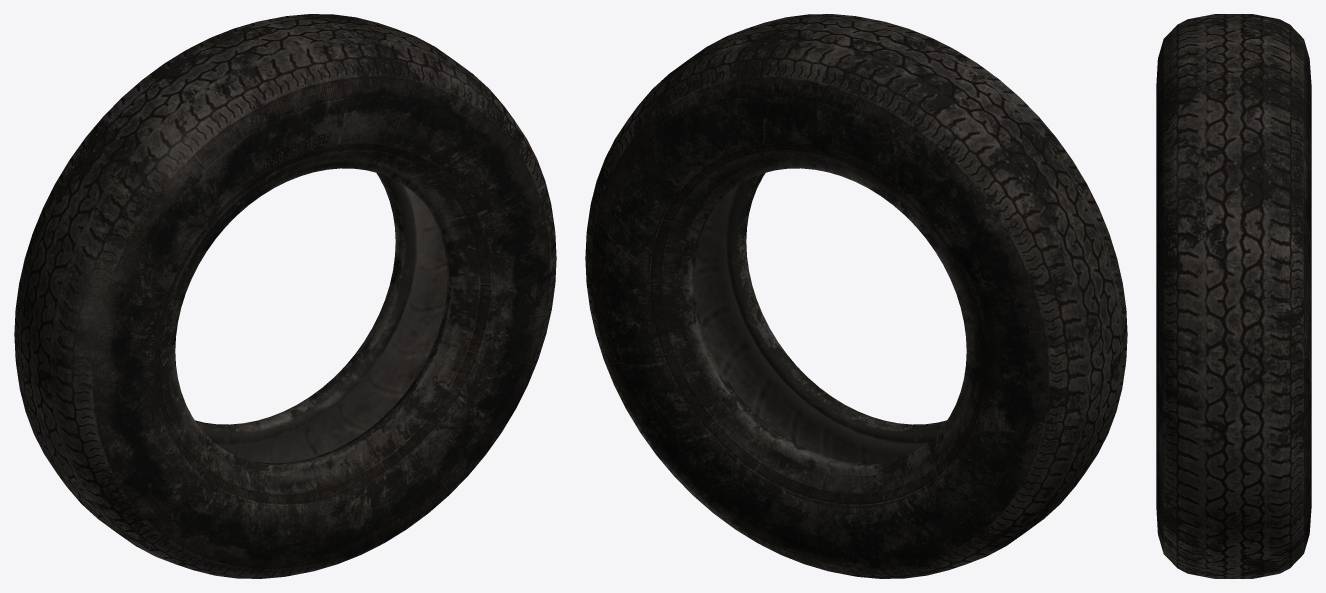
The model's file is old_tyre_1k.gltf.
The picture shows the model from 3 angles, left to right: view 1: azimuth 30°, elevation 25°; view 2: azimuth 150°, elevation 25°; view 3: azimuth 270°, elevation 25°; orthographic projection. The views are drawn at different scales.
Parts seen in each view (by area): view 1: old_tyre; view 2: old_tyre; view 3: old_tyre.
Boxes of the visible parts, x1,y1,x2,y2 form: old_tyre: (14,14,556,578); old_tyre: (585,14,1127,578); old_tyre: (1156,14,1311,578).
Size of the model in its own units: 0.6 by 0.6 by 0.165.
Materials: 1 (1 with a texture image).
